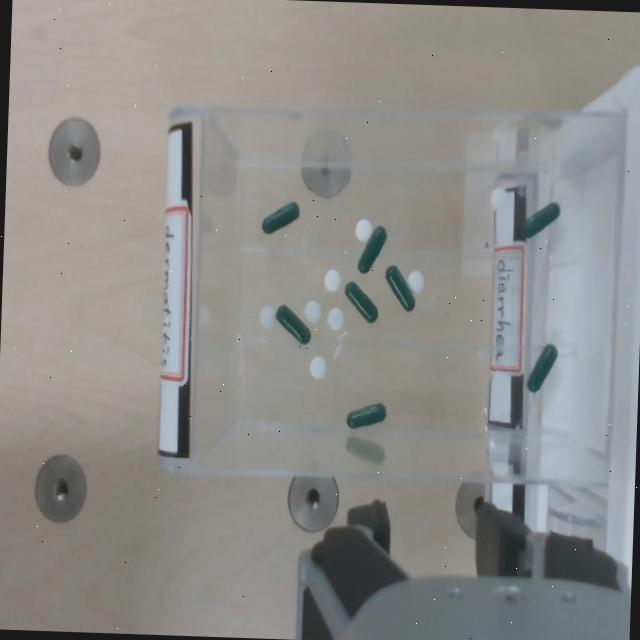ganakan_tab: (257, 302, 276, 330), (352, 215, 372, 241), (406, 266, 425, 292), (323, 268, 340, 292), (303, 298, 320, 322), (309, 354, 326, 377), (354, 217, 371, 240), (405, 268, 422, 291), (325, 306, 342, 328), (326, 306, 342, 329), (258, 304, 274, 327), (322, 268, 339, 289), (303, 299, 319, 321), (308, 355, 324, 376)
monodoxy_cap: (517, 197, 560, 241), (524, 339, 557, 392), (382, 262, 416, 311), (274, 301, 312, 344), (355, 222, 387, 273), (342, 279, 378, 322), (259, 197, 300, 234), (525, 342, 555, 391), (519, 201, 559, 237), (274, 303, 309, 342), (384, 263, 413, 309), (356, 225, 384, 271), (343, 280, 375, 320), (345, 397, 386, 428), (260, 200, 298, 232), (345, 401, 384, 427)
